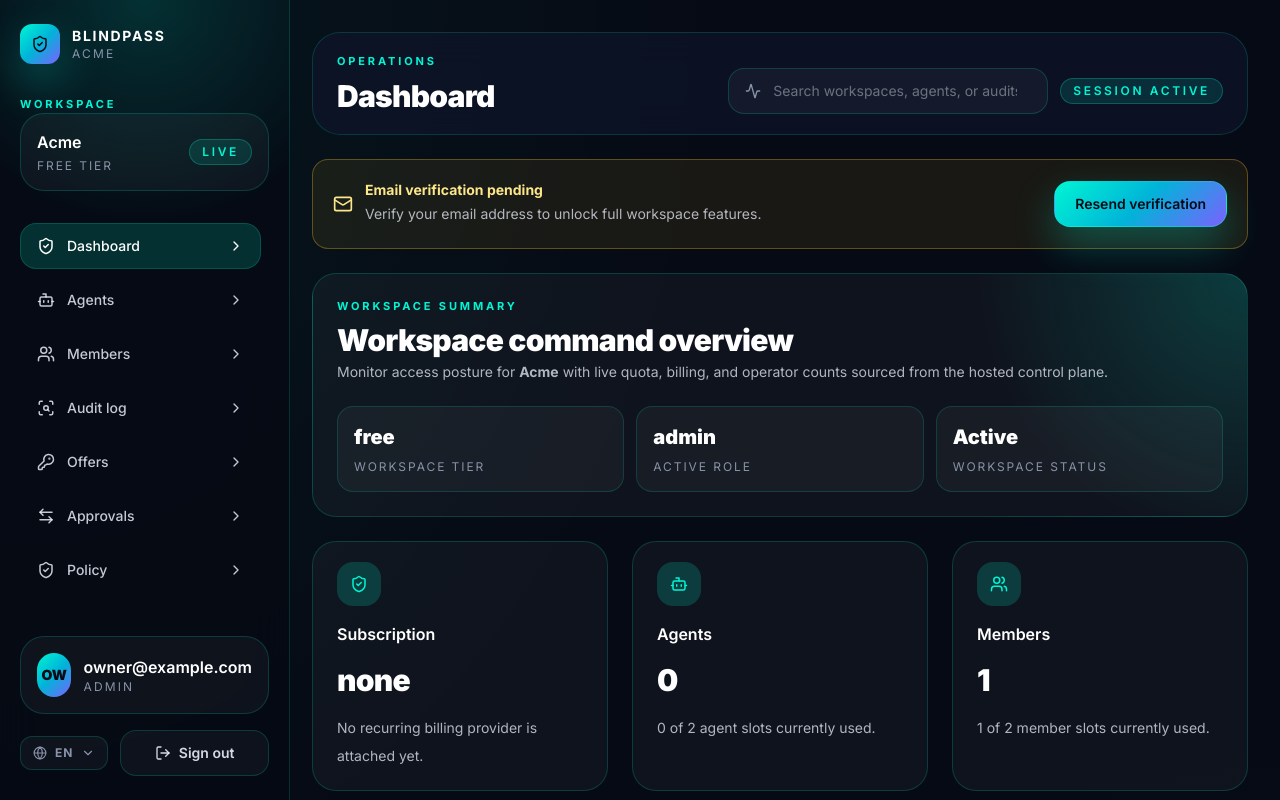
Test: dashboard email flows › shows local delivery messaging when verification resend logs a link instead of sending mail
Expected: the heading "Workspace command overview" is shown, [337,322,793,358]
Click the button "Resend verification": (1141, 204) [1054,180,1227,226]
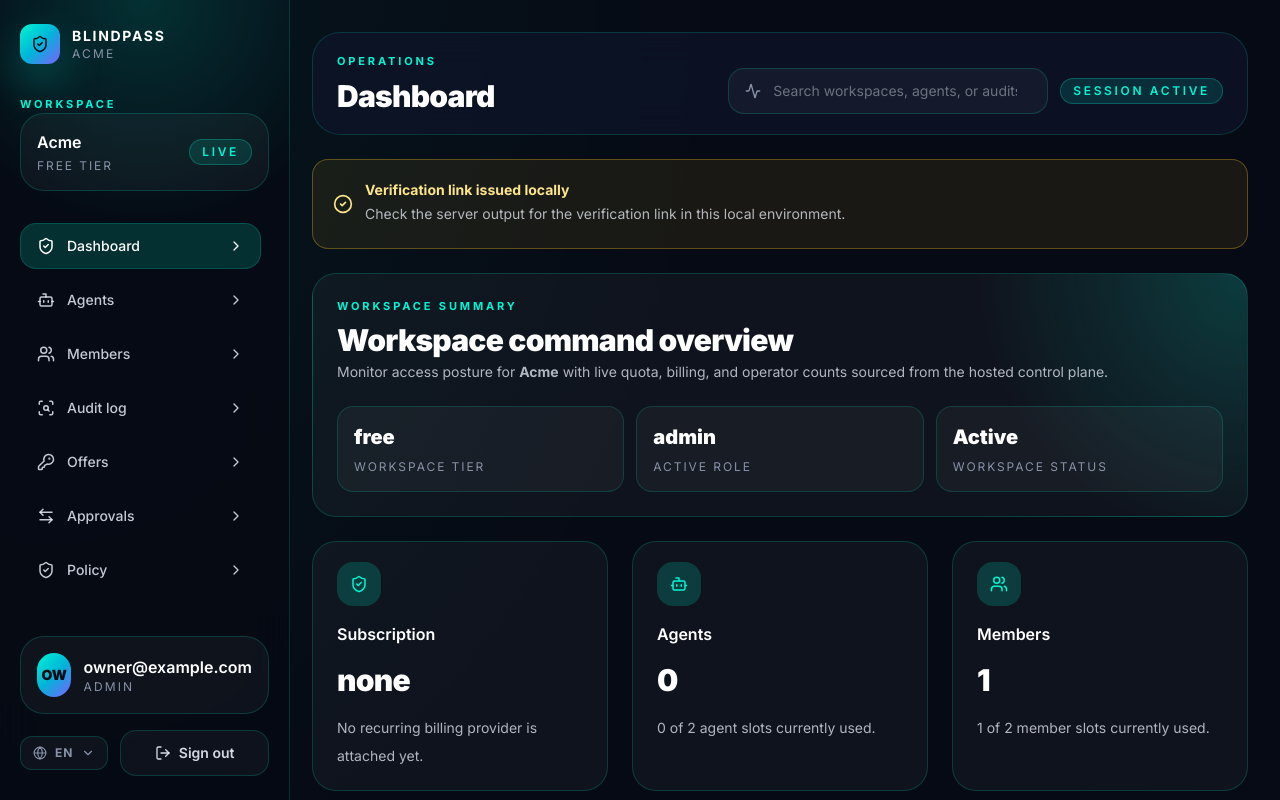
Expected: the text "Verification link issued locally" is shown, [365,180,570,198]
Expected: the text "Check the server output for the verification link in this local environment." is shown, [365,200,845,228]
